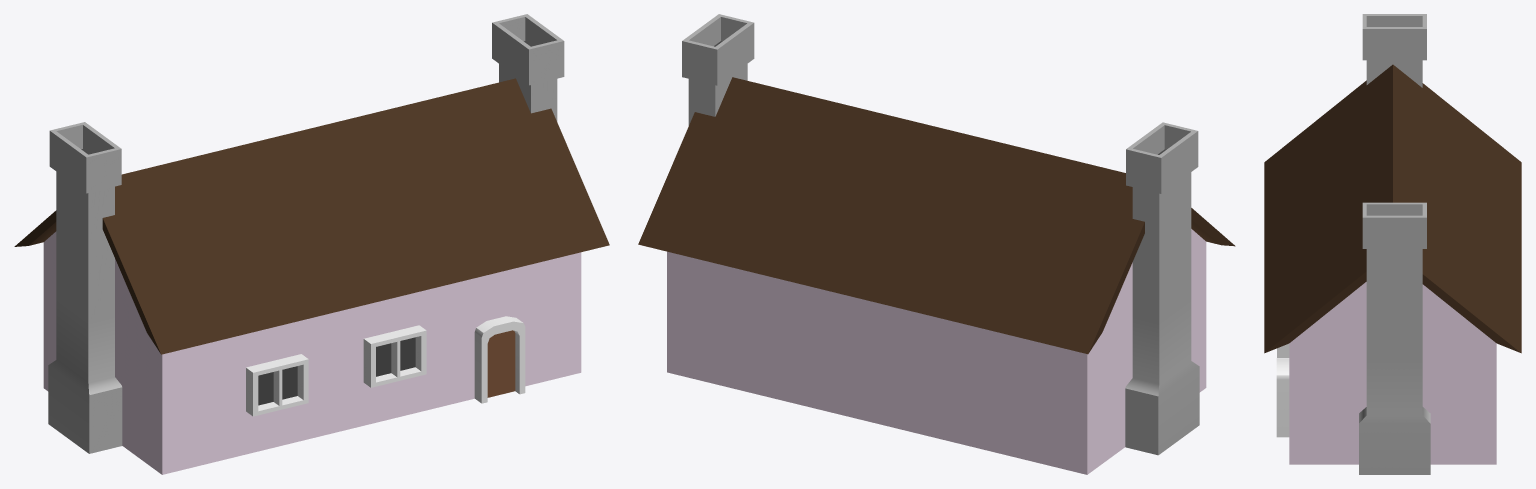
The model's file is Maison3.fbx.
3 renders of one model, left to right at view 1: azimuth 30°, elevation 25°; view 2: azimuth 150°, elevation 25°; view 3: azimuth 270°, elevation 25°, orthographic. The views are drawn at different scales.
Visible parts, largest first — view 1: maison2; view 2: maison2; view 3: maison2.
Boxes of the visible parts, x1=… form: maison2: x1=14, y1=14, x2=609, y2=474; maison2: x1=638, y1=14, x2=1235, y2=474; maison2: x1=1264, y1=14, x2=1521, y2=474.
Bounding box in the file's own units: 72.52 × 42.82 × 38.7.
